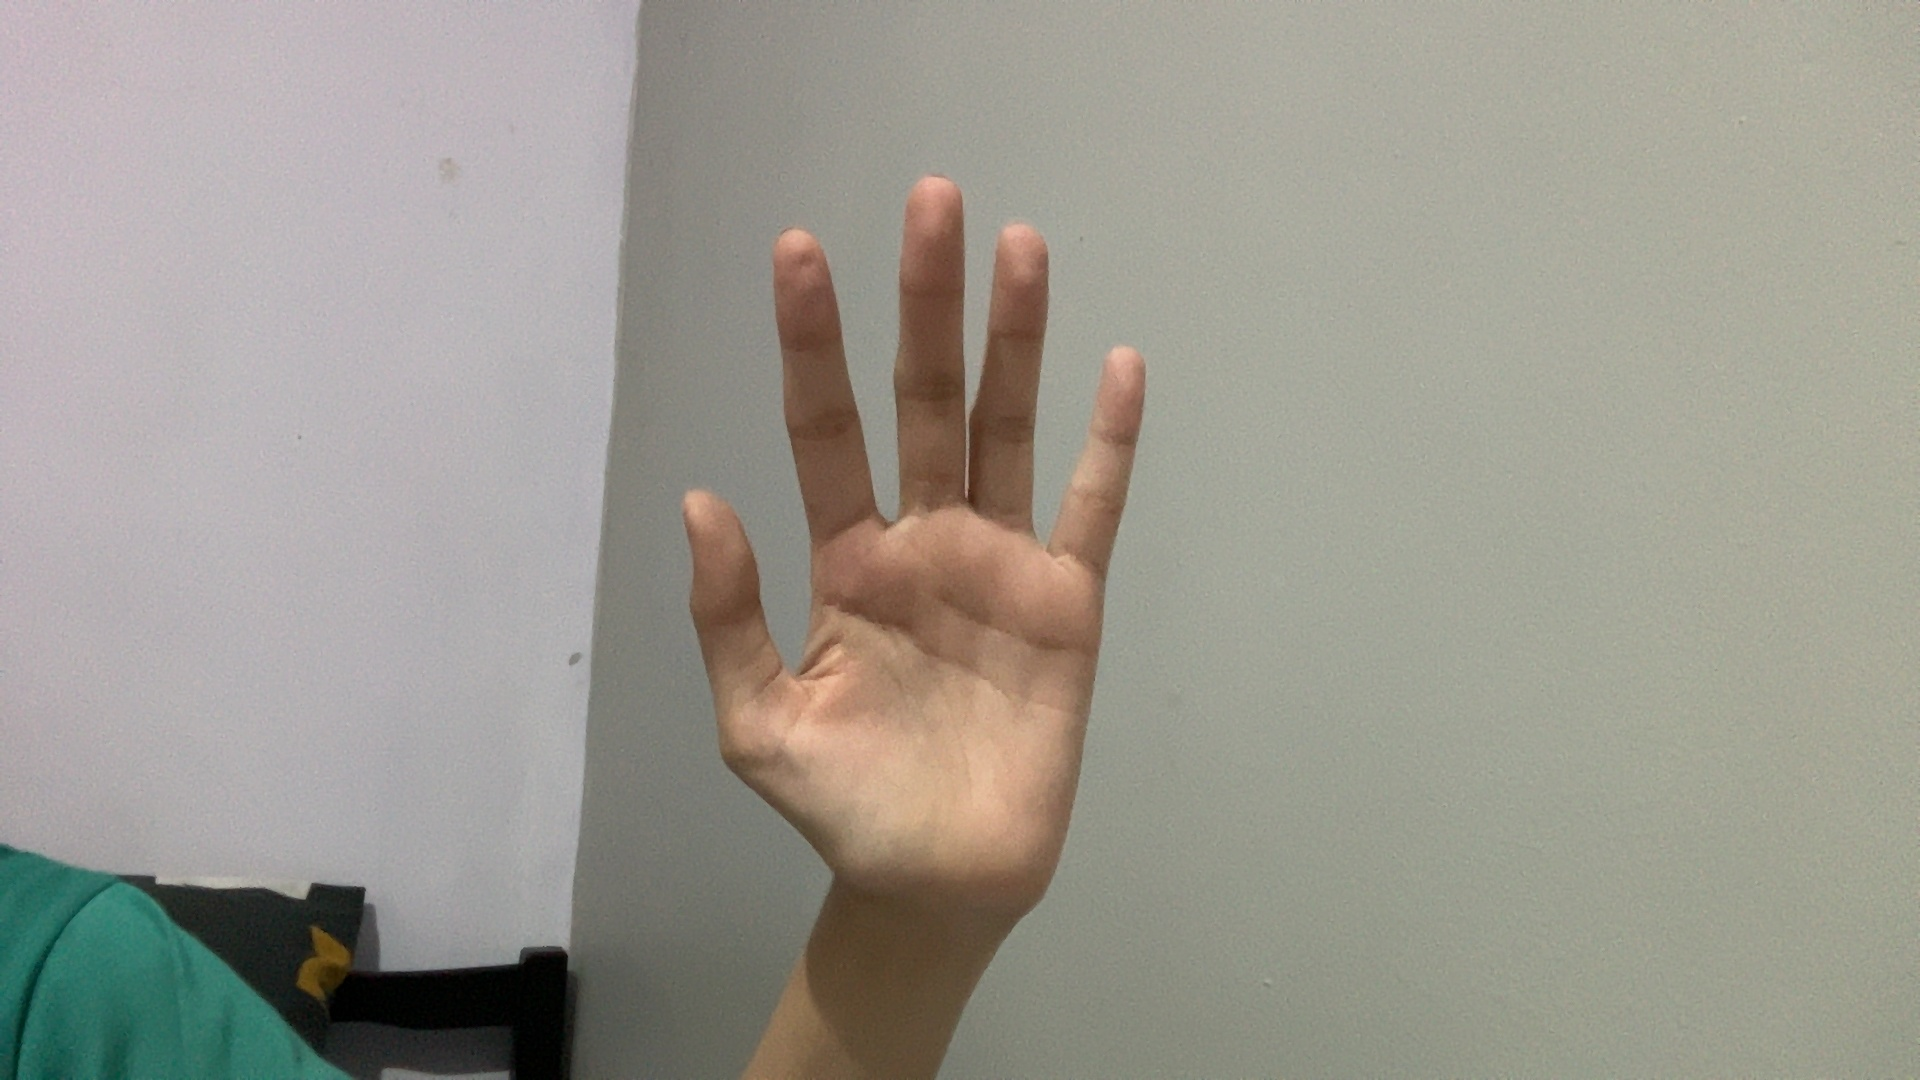Hello: (495, 160, 1386, 990)
